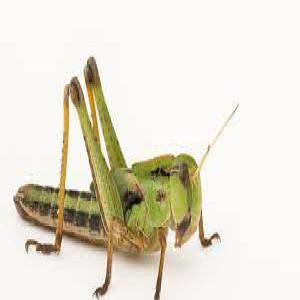locust: (11, 97, 230, 251)
